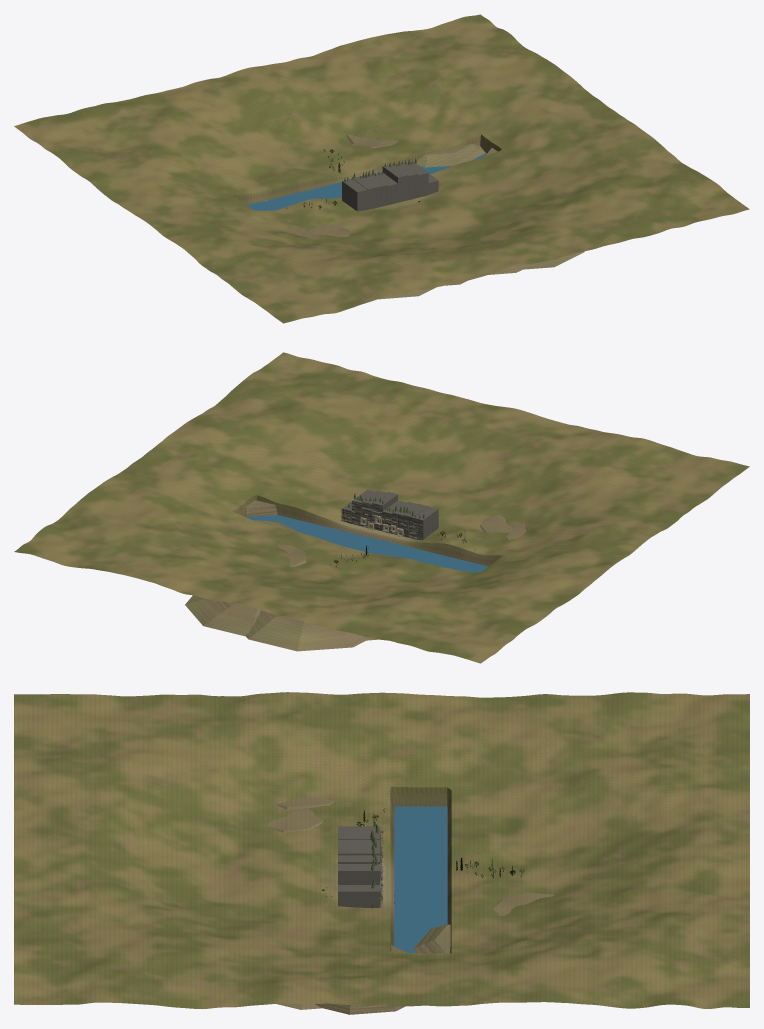
File: kaunos-kaya-mezarlari-baked.glb
3 views of the same model, one above another, from view 1: azimuth 30°, elevation 25°; view 2: azimuth 150°, elevation 25°; view 3: azimuth 270°, elevation 25° (orthographic). The views are drawn at different scales.
Visible parts, largest first — view 1: kaunos-kaya-mezarlari-terrain, kaunos-kaya-mezarlari-near, kaunos-kaya-mezarlari-ground; view 2: kaunos-kaya-mezarlari-terrain, kaunos-kaya-mezarlari-near, kaunos-kaya-mezarlari-ground; view 3: kaunos-kaya-mezarlari-terrain, kaunos-kaya-mezarlari-near, kaunos-kaya-mezarlari-ground.
Boxes of the visible parts, x1=… form: kaunos-kaya-mezarlari-terrain: x1=14, y1=14, x2=749, y2=323; kaunos-kaya-mezarlari-near: x1=247, y1=134, x2=486, y2=239; kaunos-kaya-mezarlari-ground: x1=264, y1=135, x2=584, y2=299; kaunos-kaya-mezarlari-terrain: x1=14, y1=352, x2=749, y2=663; kaunos-kaya-mezarlari-near: x1=246, y1=489, x2=525, y2=572; kaunos-kaya-mezarlari-ground: x1=185, y1=500, x2=508, y2=651; kaunos-kaya-mezarlari-terrain: x1=14, y1=692, x2=749, y2=1008; kaunos-kaya-mezarlari-near: x1=267, y1=797, x2=554, y2=953; kaunos-kaya-mezarlari-ground: x1=268, y1=800, x2=511, y2=1014.
Bounding box in the file's own units: 768 × 65.5 × 768.
15 materials, 11 textured.
